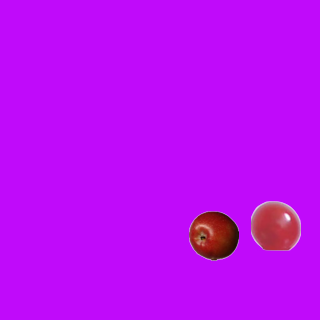Apple Braeburn: (188, 210, 238, 260)
Redcurrant: (250, 200, 300, 250)
